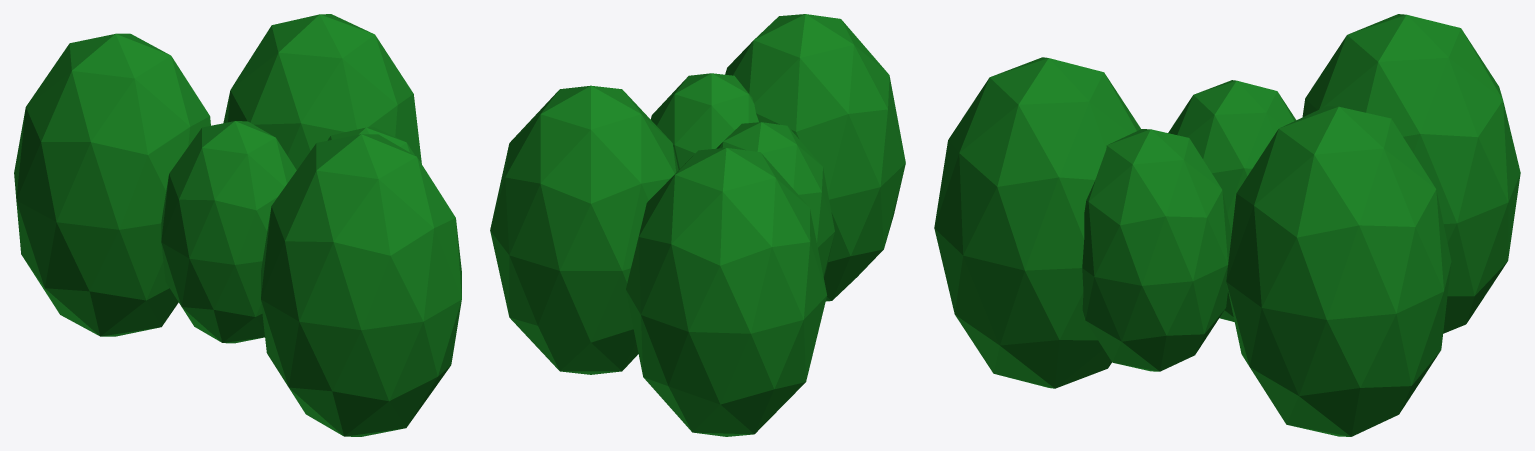
The model's file is blockout1.treecluster7.fbx.
3 views of the same model, side by side, from view 1: azimuth 30°, elevation 25°; view 2: azimuth 150°, elevation 25°; view 3: azimuth 270°, elevation 25° (orthographic). The views are drawn at different scales.
Parts seen in each view (by area): view 1: Icosphere.013; view 2: Icosphere.013; view 3: Icosphere.013.
Part boxes in pixels (left/top/right/bottom): Icosphere.013: left=14, top=14, right=461, bottom=436; Icosphere.013: left=490, top=14, right=905, bottom=436; Icosphere.013: left=934, top=14, right=1520, bottom=436.
Size of the model in its own units: 648 by 529 by 852.
